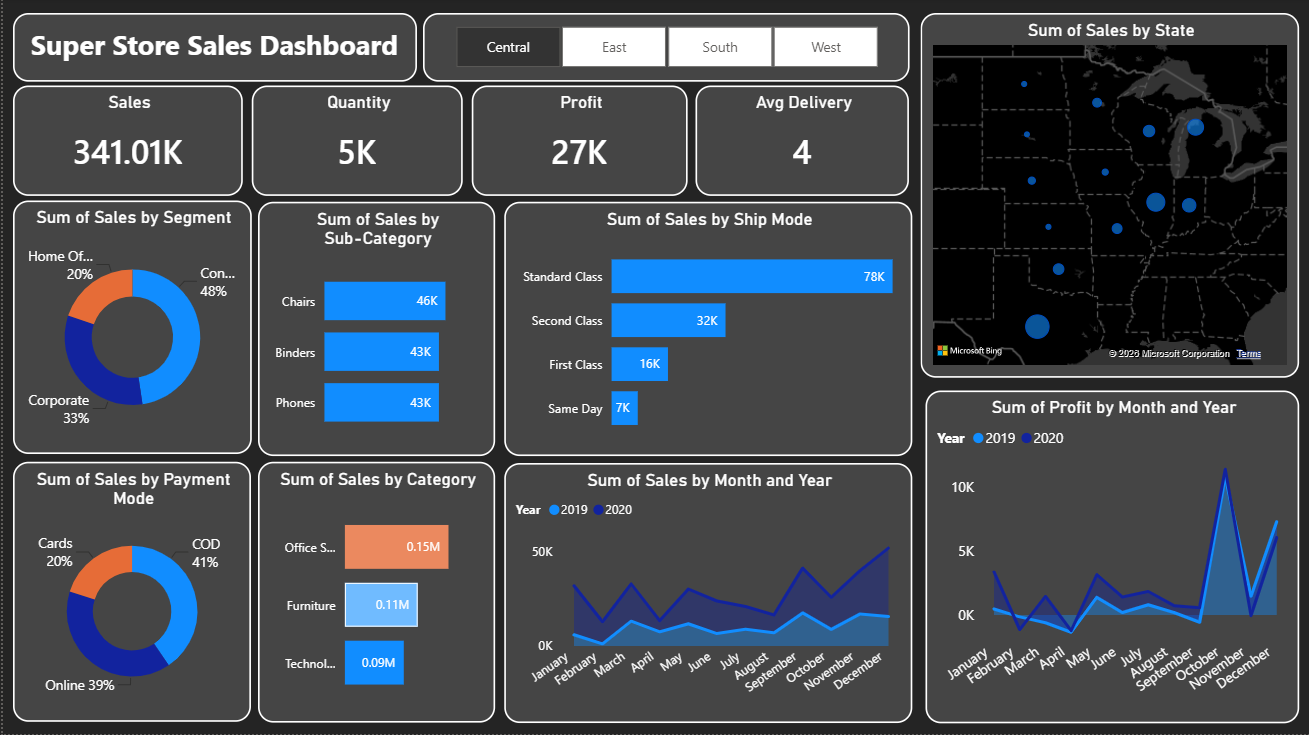

This screenshot's page, from the dashboard's own definition file:
{"tool":"powerbi","page":{"name":"Page 1","canvas":[1280,720],"ordinal":0},"visuals":[{"type":"barChart","fields":{"Category":["SuperStore_Sales_Dataset.Category"],"Y":["Sum(SuperStore_Sales_Dataset.Sales)"]},"box":[250,454,232,255],"z":0},{"type":"barChart","fields":{"Y":["Sum(SuperStore_Sales_Dataset.Sales)"],"Category":["SuperStore_Sales_Dataset.Sub-Category"]},"box":[250,199,232,249],"z":1000},{"type":"barChart","fields":{"Y":["Sum(SuperStore_Sales_Dataset.Sales)"],"Category":["SuperStore_Sales_Dataset.Ship Mode"]},"box":[490,199,399,249],"z":2000},{"type":"stackedAreaChart","fields":{"Y":["Sum(SuperStore_Sales_Dataset.Sales)"],"Series":["SuperStore_Sales_Dataset.Order Date.Variation.Date Hierarchy.Year"],"Category":["SuperStore_Sales_Dataset.Order Date.Variation.Date Hierarchy.Month","SuperStore_Sales_Dataset.Order Date.Variation.Date Hierarchy.Day"]},"box":[490,455,399,254],"z":3000},{"type":"stackedAreaChart","fields":{"Series":["SuperStore_Sales_Dataset.Order Date.Variation.Date Hierarchy.Year"],"Category":["SuperStore_Sales_Dataset.Order Date.Variation.Date Hierarchy.Month","SuperStore_Sales_Dataset.Order Date.Variation.Date Hierarchy.Day"],"Y":["Sum(SuperStore_Sales_Dataset.Profit)"]},"box":[902.5,384,365.6,325.3],"z":4000},{"type":"map","fields":{"Category":["SuperStore_Sales_Dataset.State"],"Size":["Sum(SuperStore_Sales_Dataset.Sales)"]},"box":[897.6,14.7,370.5,357.1],"z":5000},{"type":"donutChart","fields":{"Category":["SuperStore_Sales_Dataset.Segment"],"Y":["Sum(SuperStore_Sales_Dataset.Sales)"]},"box":[9.8,198.1,233.6,248.2],"z":5001},{"type":"donutChart","fields":{"Category":["SuperStore_Sales_Dataset.Payment Mode"],"Y":["Sum(SuperStore_Sales_Dataset.Sales)"]},"box":[10,454,233,254],"z":5002},{"type":"slicer","fields":{"Values":["SuperStore_Sales_Dataset.Region"]},"box":[410.9,14.7,475.7,67.3],"z":5003},{"type":"textbox","box":[9.8,14.7,395,67.3],"z":5004},{"type":"cardVisual","title":"Sales","fields":{"Data":["Sum(SuperStore_Sales_Dataset.Sales)"]},"box":[9.8,85.6,225,107.6],"z":5005},{"type":"cardVisual","title":"Quantity","fields":{"Data":["Sum(SuperStore_Sales_Dataset.Quantity)"]},"box":[243.3,85.6,206.7,107.6],"z":5006},{"type":"cardVisual","title":"Profit","fields":{"Data":["Sum(SuperStore_Sales_Dataset.Profit)"]},"box":[458.6,85.6,211.6,107.6],"z":5007},{"type":"cardVisual","title":"Avg Delivery","fields":{"Data":["Avg(SuperStore_Sales_Dataset.AvgDelivery)"]},"box":[677.4,85.6,209.1,107.6],"z":5008}]}

Visuals, with their boxes in screenshot pixels (x1, y1, x2, y2), scaled from the page's 1280x720 canvas onto the 1309x735 screenshot:
barChart - SuperStore_Sales_Dataset.Category x Sum(SuperStore_Sales_Dataset.Sales): (256, 463, 493, 724)
barChart - Sum(SuperStore_Sales_Dataset.Sales) x SuperStore_Sales_Dataset.Sub-Category: (256, 203, 493, 457)
barChart - Sum(SuperStore_Sales_Dataset.Sales) x SuperStore_Sales_Dataset.Ship Mode: (501, 203, 909, 457)
stackedAreaChart - Sum(SuperStore_Sales_Dataset.Sales) x SuperStore_Sales_Dataset.Order Date.Variation.Date Hierarchy.Year: (501, 464, 909, 724)
stackedAreaChart - SuperStore_Sales_Dataset.Order Date.Variation.Date Hierarchy.Year x SuperStore_Sales_Dataset.Order Date.Variation.Date Hierarchy.Month: (923, 392, 1297, 724)
map - SuperStore_Sales_Dataset.State x Sum(SuperStore_Sales_Dataset.Sales): (918, 15, 1297, 380)
donutChart - SuperStore_Sales_Dataset.Segment x Sum(SuperStore_Sales_Dataset.Sales): (10, 202, 249, 456)
donutChart - SuperStore_Sales_Dataset.Payment Mode x Sum(SuperStore_Sales_Dataset.Sales): (10, 463, 249, 723)
slicer - SuperStore_Sales_Dataset.Region: (420, 15, 907, 84)
textbox: (10, 15, 414, 84)
"Sales" cardVisual: (10, 87, 240, 197)
"Quantity" cardVisual: (249, 87, 460, 197)
"Profit" cardVisual: (469, 87, 685, 197)
"Avg Delivery" cardVisual: (693, 87, 907, 197)
